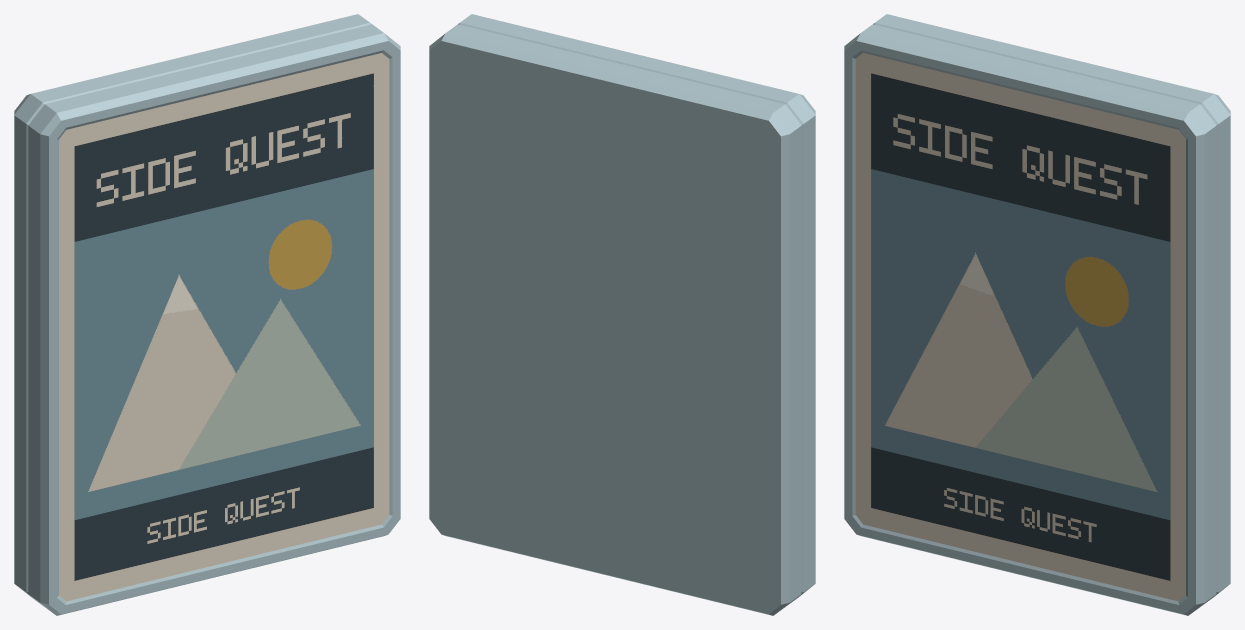
File: CozyGameCase_v01.fbx
The picture shows the model from 3 angles, left to right: view 1: azimuth 30°, elevation 25°; view 2: azimuth 150°, elevation 25°; view 3: azimuth 330°, elevation 25°; orthographic projection.
Visible parts, largest first — view 1: CozyGameCase; view 2: CozyGameCase; view 3: CozyGameCase.
Boxes of the visible parts, box(x1,y1,x2,y2) form: CozyGameCase: box(14, 14, 400, 615); CozyGameCase: box(429, 14, 815, 615); CozyGameCase: box(844, 14, 1230, 615).
Size of the model in its own units: 0.012 by 0.016 by 0.002.
2 materials, 1 textured.
